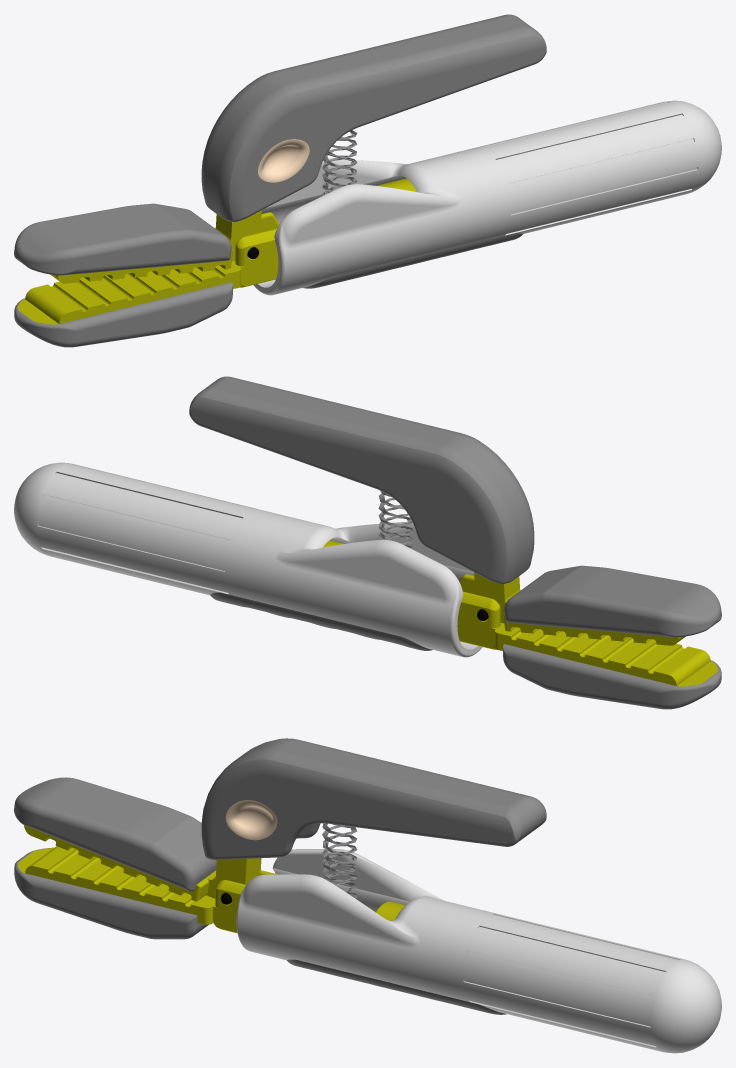
The model's file is Arc_welding.glb.
3 renders of one model, top to bottom at view 1: azimuth 30°, elevation 25°; view 2: azimuth 150°, elevation 25°; view 3: azimuth 330°, elevation 25°, orthographic.
Parts seen in each view (by area): view 1: NAUO6, NAUO4, NAUO3, NAUO2, NAUO5; view 2: NAUO6, NAUO4, NAUO3, NAUO2, NAUO5; view 3: NAUO6, NAUO4, NAUO2, NAUO3, NAUO5.
Part boxes in pixels (bbox=[...]): NAUO6: bbox=[253, 100, 721, 295]; NAUO4: bbox=[201, 14, 546, 221]; NAUO3: bbox=[14, 178, 416, 347]; NAUO2: bbox=[14, 203, 261, 283]; NAUO5: bbox=[322, 130, 357, 195]; NAUO6: bbox=[14, 462, 482, 657]; NAUO4: bbox=[189, 376, 534, 583]; NAUO3: bbox=[323, 540, 721, 709]; NAUO2: bbox=[474, 565, 721, 645]; NAUO5: bbox=[378, 490, 413, 549]; NAUO6: bbox=[236, 849, 721, 1053]; NAUO4: bbox=[201, 738, 546, 859]; NAUO2: bbox=[14, 777, 261, 901]; NAUO3: bbox=[14, 846, 405, 939]; NAUO5: bbox=[322, 823, 357, 898].
Size of the model in its own units: 0.2361 by 0.0685 by 0.028.
